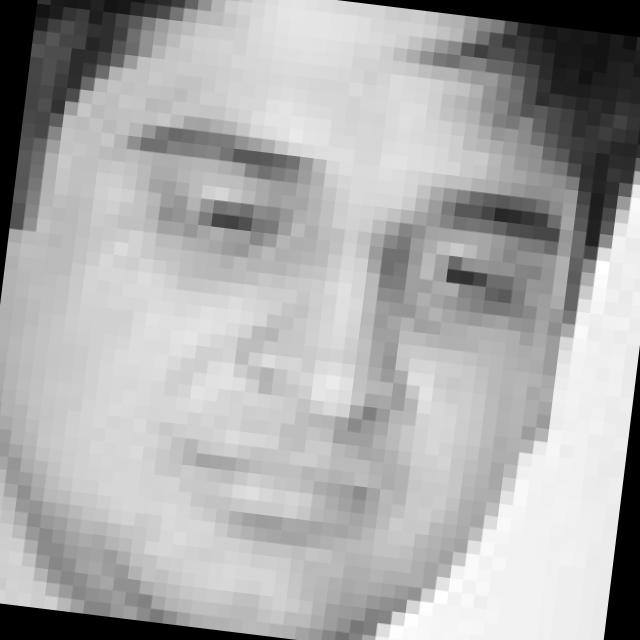sad: (54, 104, 571, 570)
